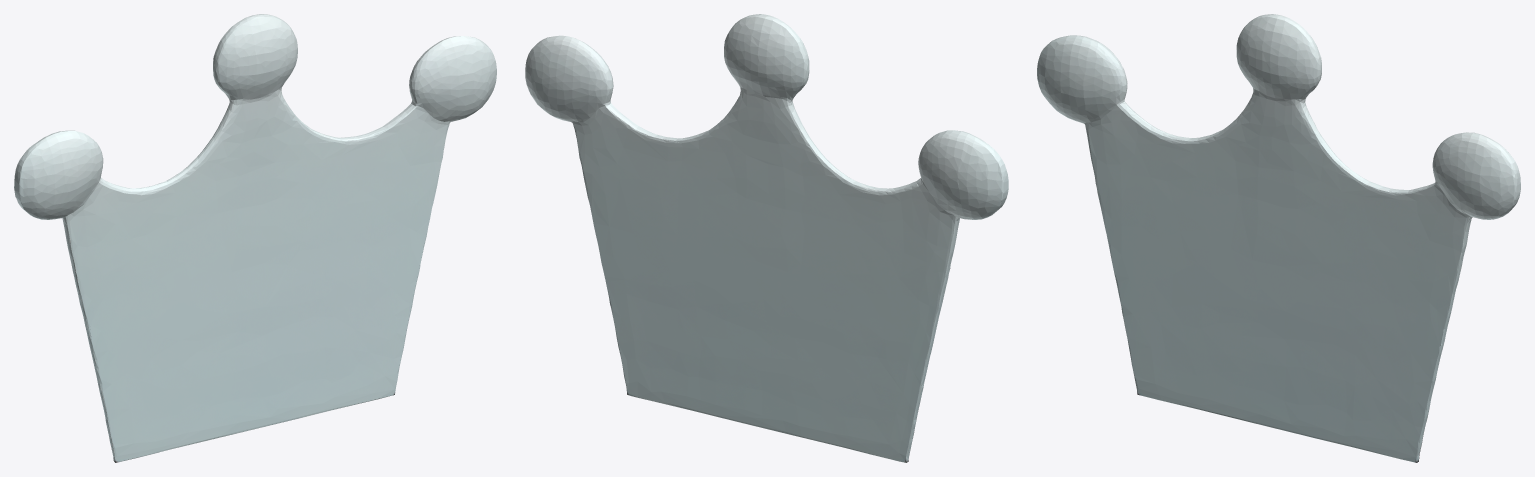
File: crown.glb
The picture shows the model from 3 angles, left to right: view 1: azimuth 30°, elevation 25°; view 2: azimuth 150°, elevation 25°; view 3: azimuth 330°, elevation 25°; orthographic projection.
Parts seen in each view (by area): view 1: world; view 2: world; view 3: world.
Boxes of the visible parts, x1,y1,x2,y2 form: world: [14, 14, 496, 462]; world: [525, 14, 1008, 462]; world: [1037, 14, 1520, 462].
Bounding box in the file's own units: 0.9999 × 0.8242 × 0.0692.
Materials: 1 (1 with a texture image).
